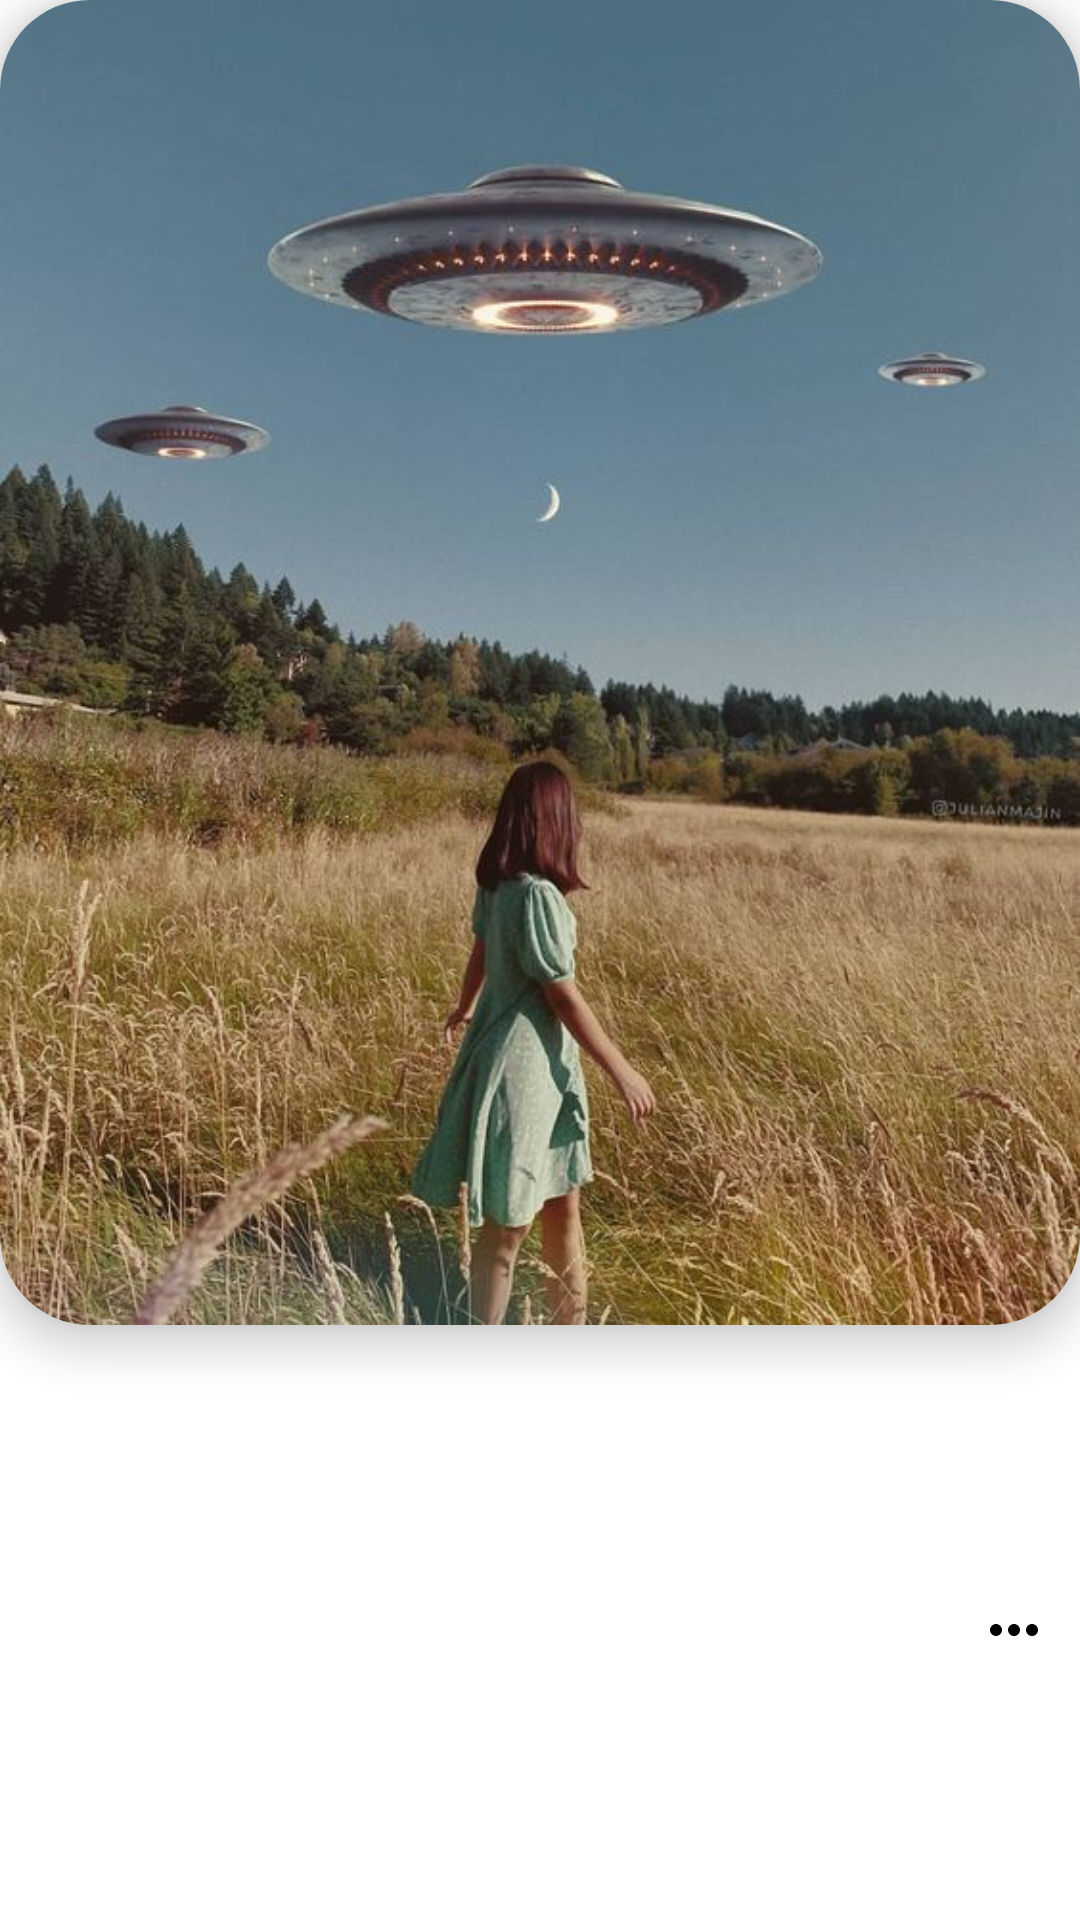

Icon bounding boxes for this 1080*1920 phone screenshot, format (x1, y1, x2, y2):
more: (990, 1624, 1038, 1636)
